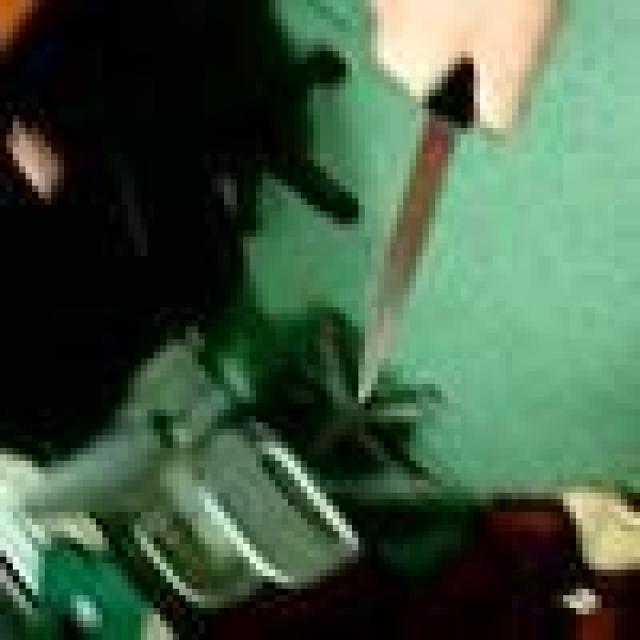senjata_tajam: (352, 87, 476, 406)
